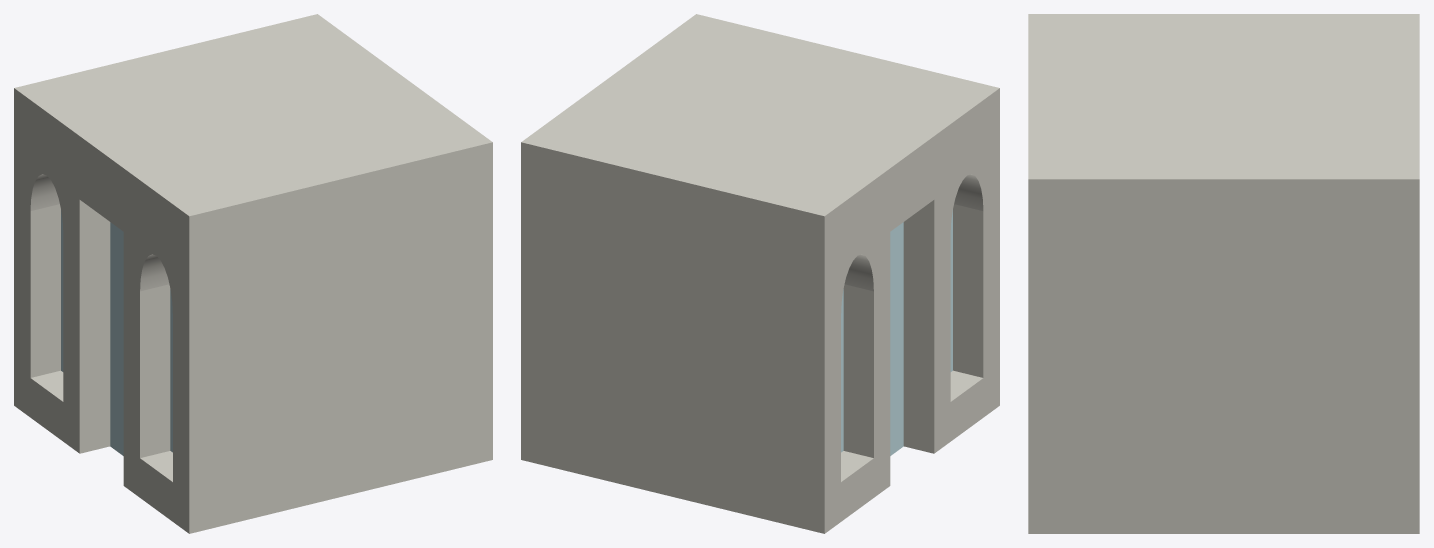
Rendered from Building Story 26.fbx.
3 views of the same model, side by side, from view 1: azimuth 30°, elevation 25°; view 2: azimuth 150°, elevation 25°; view 3: azimuth 270°, elevation 25° (orthographic). The views are drawn at different scales.
Parts seen in each view (by area): view 1: Building Story 26; view 2: Building Story 26; view 3: Building Story 26.
Part boxes in pixels (<box>): Building Story 26: <box>14,14,492,533</box>; Building Story 26: <box>521,14,999,533</box>; Building Story 26: <box>1028,14,1419,533</box>.
Bounding box in the file's own units: 1 × 1 × 1.
